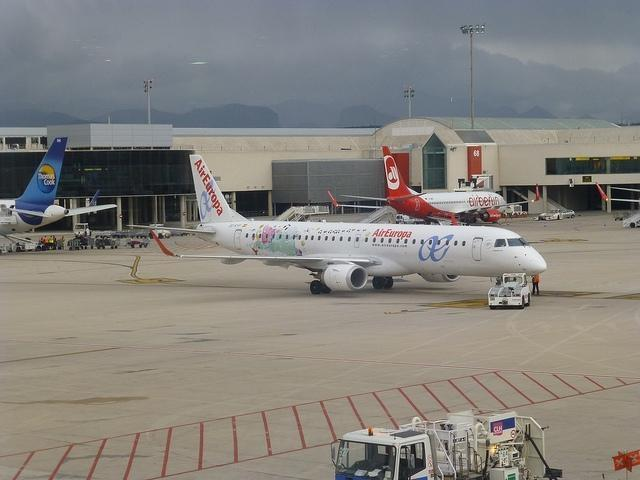car: (539, 208, 563, 220), (562, 210, 576, 216)
truck: (340, 411, 548, 472), (486, 272, 532, 310), (68, 236, 95, 250), (95, 234, 118, 250), (152, 230, 170, 239)
